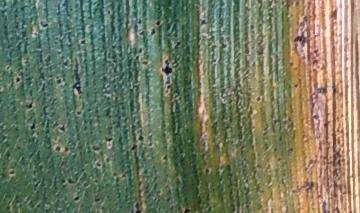tarspot: (72, 57, 83, 96), (161, 58, 173, 77), (293, 35, 306, 48), (331, 8, 339, 22), (133, 201, 142, 213), (315, 86, 327, 95), (255, 47, 265, 57), (330, 84, 338, 96), (104, 109, 113, 119), (58, 124, 67, 133), (103, 135, 113, 143), (91, 144, 101, 152), (62, 58, 70, 68), (138, 29, 146, 39), (148, 27, 156, 36), (173, 41, 182, 49), (39, 21, 49, 28), (29, 121, 36, 131), (66, 177, 76, 184), (129, 143, 137, 151), (163, 78, 171, 86), (198, 18, 207, 25), (322, 120, 329, 129), (140, 59, 150, 65), (25, 101, 33, 108), (53, 145, 61, 152), (161, 153, 168, 161), (255, 95, 262, 103), (248, 23, 256, 30), (136, 17, 143, 25), (163, 84, 172, 90), (79, 38, 86, 45), (137, 135, 144, 142), (155, 19, 162, 26), (94, 161, 101, 168), (220, 42, 227, 49), (292, 82, 299, 89), (272, 146, 279, 153), (311, 113, 318, 120), (113, 95, 120, 102), (138, 47, 144, 55), (183, 207, 191, 213), (15, 76, 21, 83), (55, 78, 62, 84), (8, 169, 15, 175), (75, 110, 82, 116), (73, 195, 80, 201), (104, 156, 110, 163), (147, 141, 153, 148), (288, 60, 294, 67), (211, 57, 217, 64), (276, 156, 282, 163), (121, 172, 127, 179), (115, 176, 120, 184), (278, 134, 283, 142), (111, 171, 117, 177), (5, 204, 11, 210), (204, 168, 210, 174), (63, 145, 68, 152), (120, 104, 125, 111), (106, 94, 111, 101), (5, 65, 10, 71), (106, 9, 111, 15), (60, 179, 66, 184), (94, 197, 100, 202), (93, 178, 98, 184), (3, 23, 8, 29), (273, 118, 278, 123), (288, 147, 293, 152), (61, 184, 67, 188)
